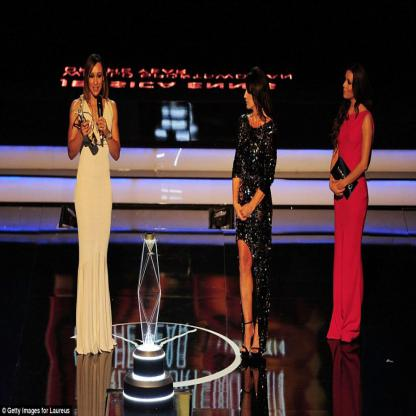face: (89, 66, 104, 96), (344, 73, 356, 100), (245, 86, 256, 110)
